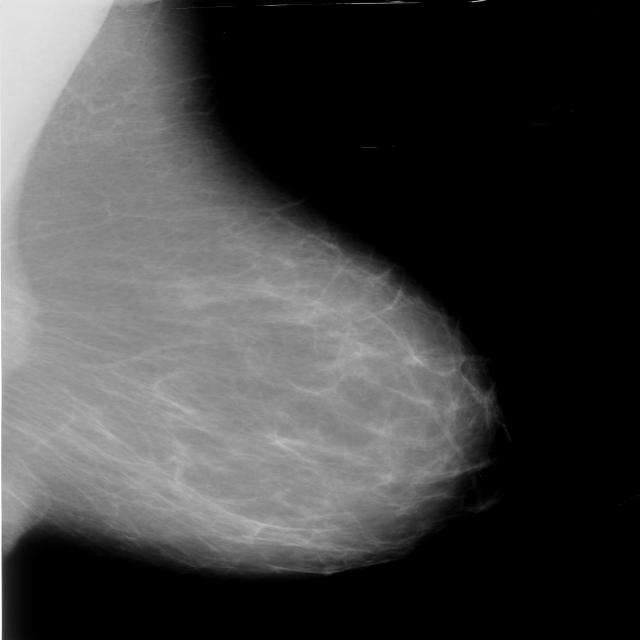normal: (0, 2, 484, 586)
